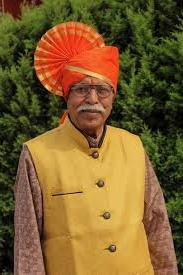Human: (9, 13, 169, 268)
